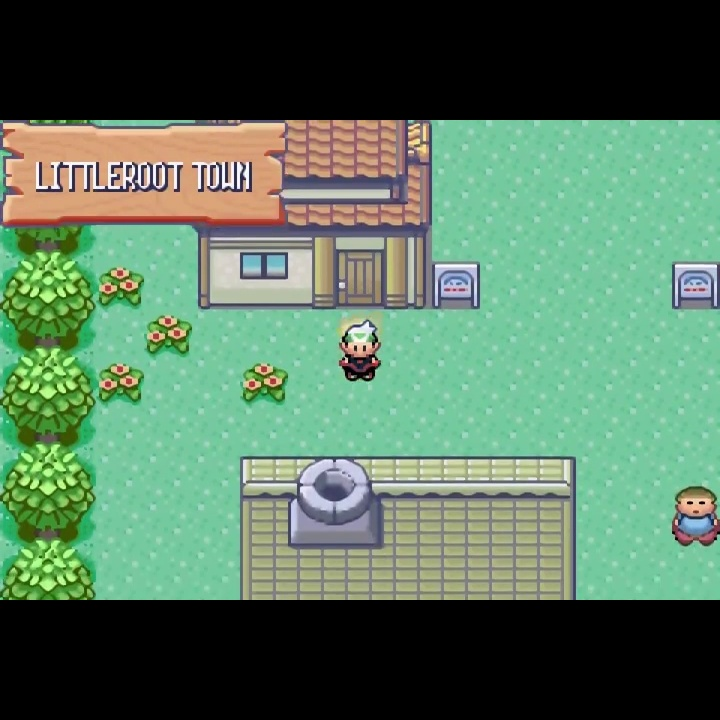house: (237, 453, 580, 600), (288, 119, 435, 314)
npc: (669, 483, 720, 550), (337, 318, 383, 386)
wall: (1, 440, 98, 537), (1, 249, 98, 345), (1, 345, 98, 440), (1, 537, 98, 600), (1, 226, 98, 251)
